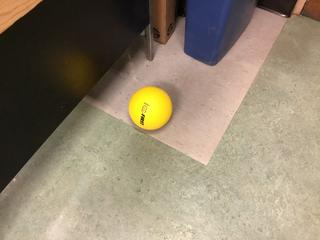power_cell: (127, 84, 175, 132)
